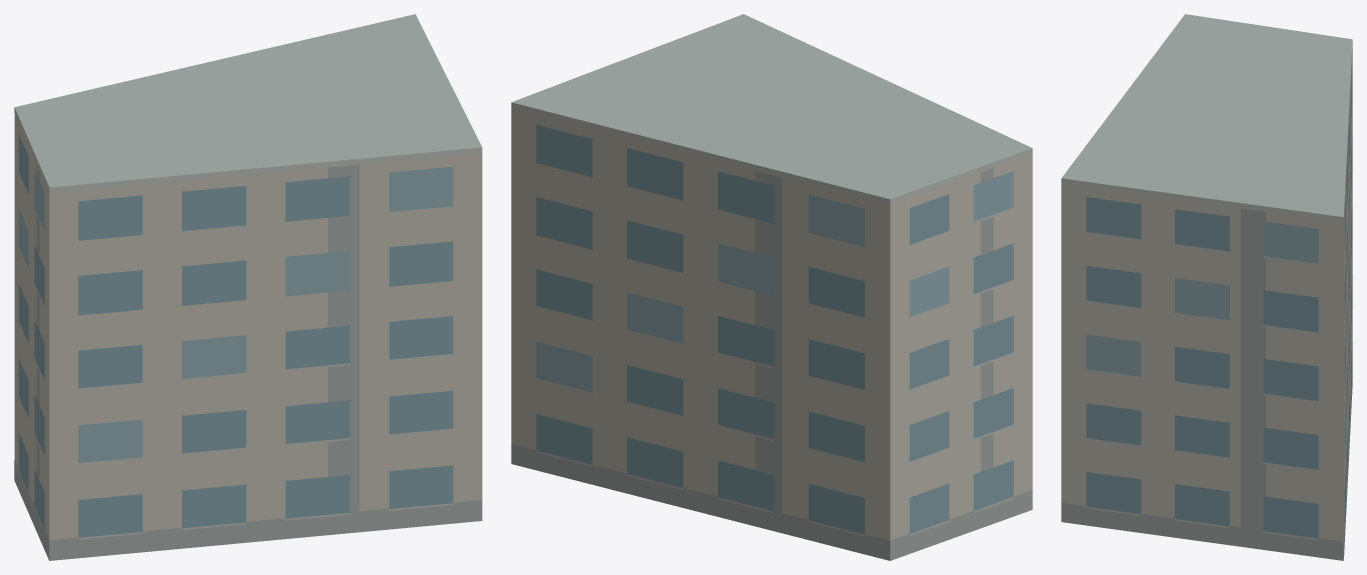
The model's file is residential-d9267d23-fb8a-4b98-b095-e63faaf9ba35.glb.
3 renders of one model, left to right at view 1: azimuth 30°, elevation 25°; view 2: azimuth 150°, elevation 25°; view 3: azimuth 270°, elevation 25°, orthographic. The views are drawn at different scales.
Parts seen in each view (by area): view 1: residential-d9267d23-fb8a-4b98-b095-e63faaf9ba35.tmp; view 2: residential-d9267d23-fb8a-4b98-b095-e63faaf9ba35.tmp; view 3: residential-d9267d23-fb8a-4b98-b095-e63faaf9ba35.tmp.
Part boxes in pixels (box(x1,y1,x2,y2)): residential-d9267d23-fb8a-4b98-b095-e63faaf9ba35.tmp: box(14, 14, 482, 560); residential-d9267d23-fb8a-4b98-b095-e63faaf9ba35.tmp: box(511, 14, 1032, 560); residential-d9267d23-fb8a-4b98-b095-e63faaf9ba35.tmp: box(1061, 14, 1352, 560).
Size of the model in its own units: 19.34 by 15.25 by 11.72.
